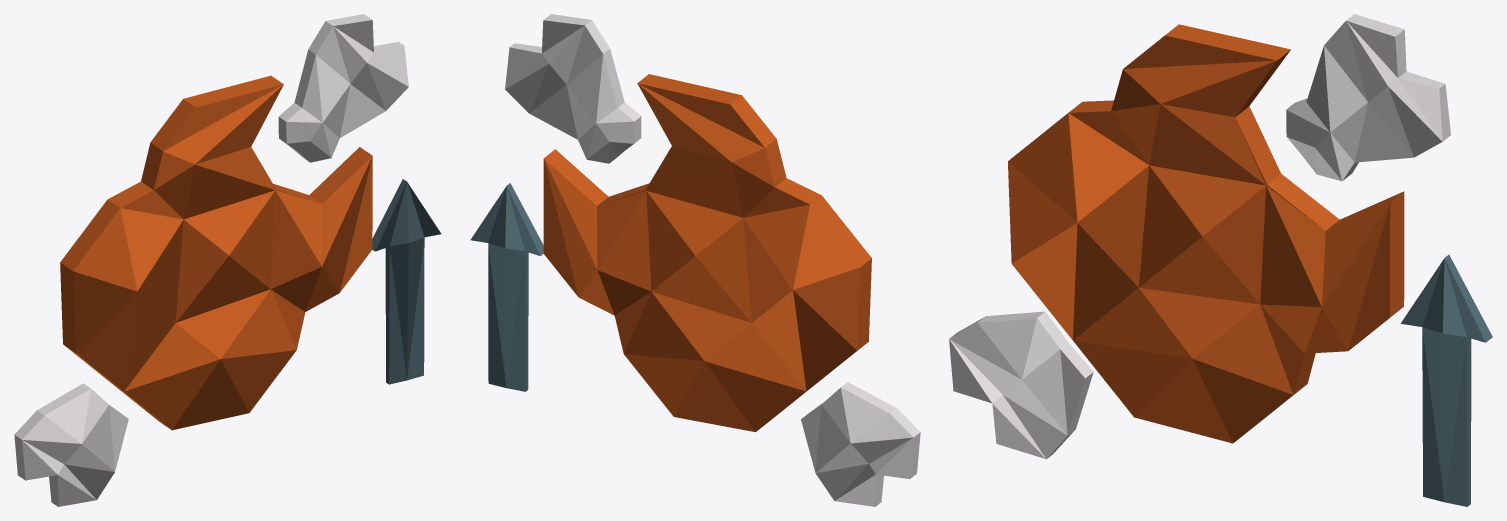
The model's file is food_up.FBX.
The picture shows the model from 3 angles, left to right: view 1: azimuth 30°, elevation 25°; view 2: azimuth 150°, elevation 25°; view 3: azimuth 330°, elevation 25°; orthographic projection. The views are drawn at different scales.
Parts seen in each view (by area): view 1: spup; view 2: spup; view 3: spup.
Boxes of the visible parts, left/top/right/bottom form: spup: left=14, top=14, right=441, bottom=506; spup: left=470, top=14, right=920, bottom=506; spup: left=949, top=14, right=1492, bottom=506.
Bounding box in the file's own units: 18.33 × 16.87 × 1.65.
